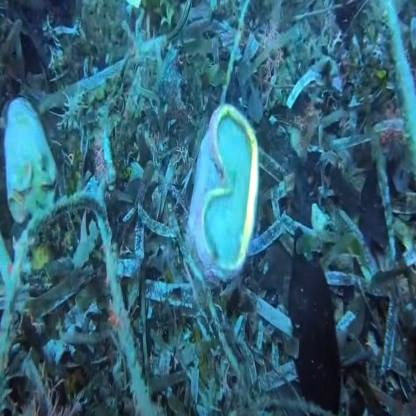pbottle: (0, 94, 74, 214)
sunglasses: (180, 101, 266, 310)
